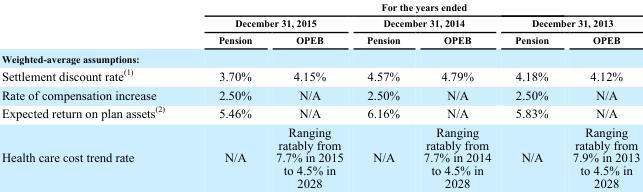table: (0, 0, 639, 189)
table column: (0, 0, 190, 189), (263, 0, 354, 189), (411, 0, 502, 189), (559, 0, 639, 189), (190, 0, 263, 189), (354, 0, 411, 189), (502, 0, 559, 189)
table column header: (0, 0, 639, 48)
table projected row header: (0, 48, 639, 65)
table row: (0, 122, 639, 189), (0, 65, 639, 85), (0, 102, 639, 122), (0, 14, 639, 31), (0, 31, 639, 48), (0, 48, 639, 65), (0, 85, 639, 102), (0, 0, 639, 14)
table spanning cell: (190, 0, 639, 14), (190, 14, 354, 31), (354, 14, 502, 31), (502, 14, 639, 31)
